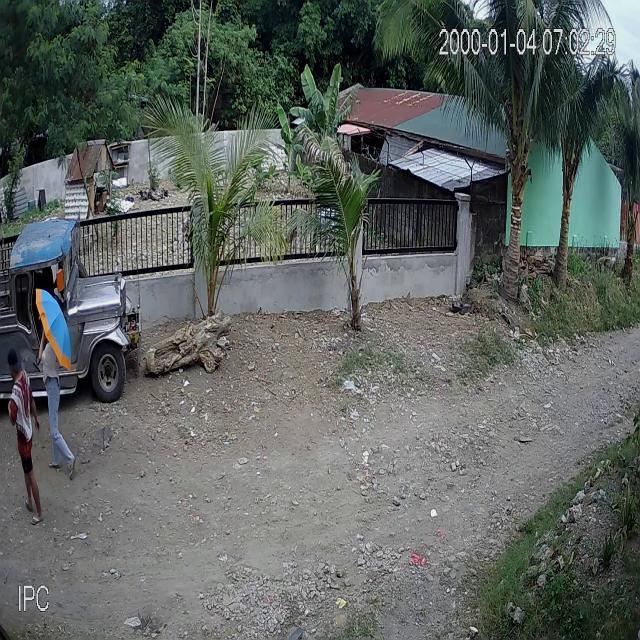walking: (35, 286, 79, 486), (7, 346, 46, 531)
